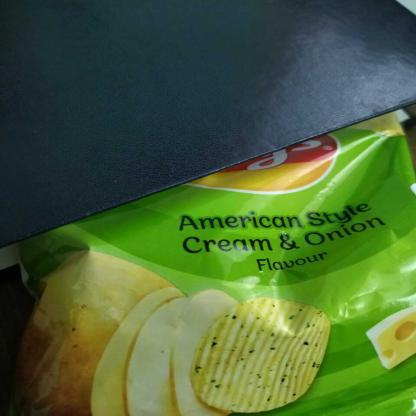cream_and_onion: (27, 127, 413, 414)
